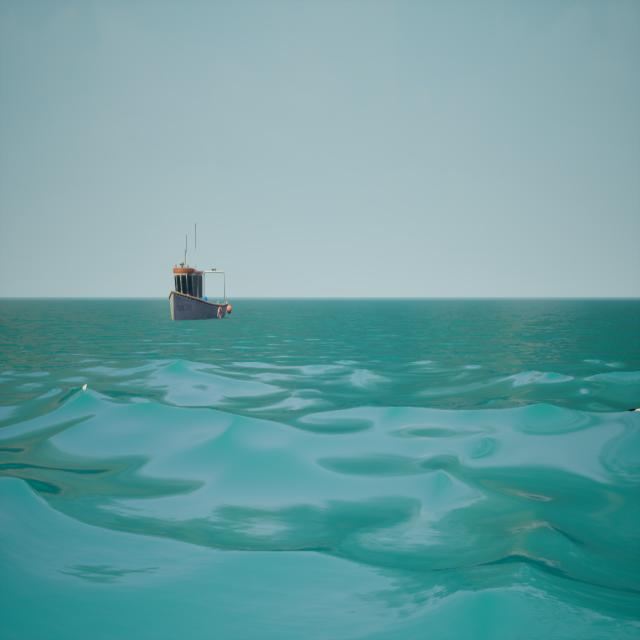ship: (160, 220, 240, 327)
